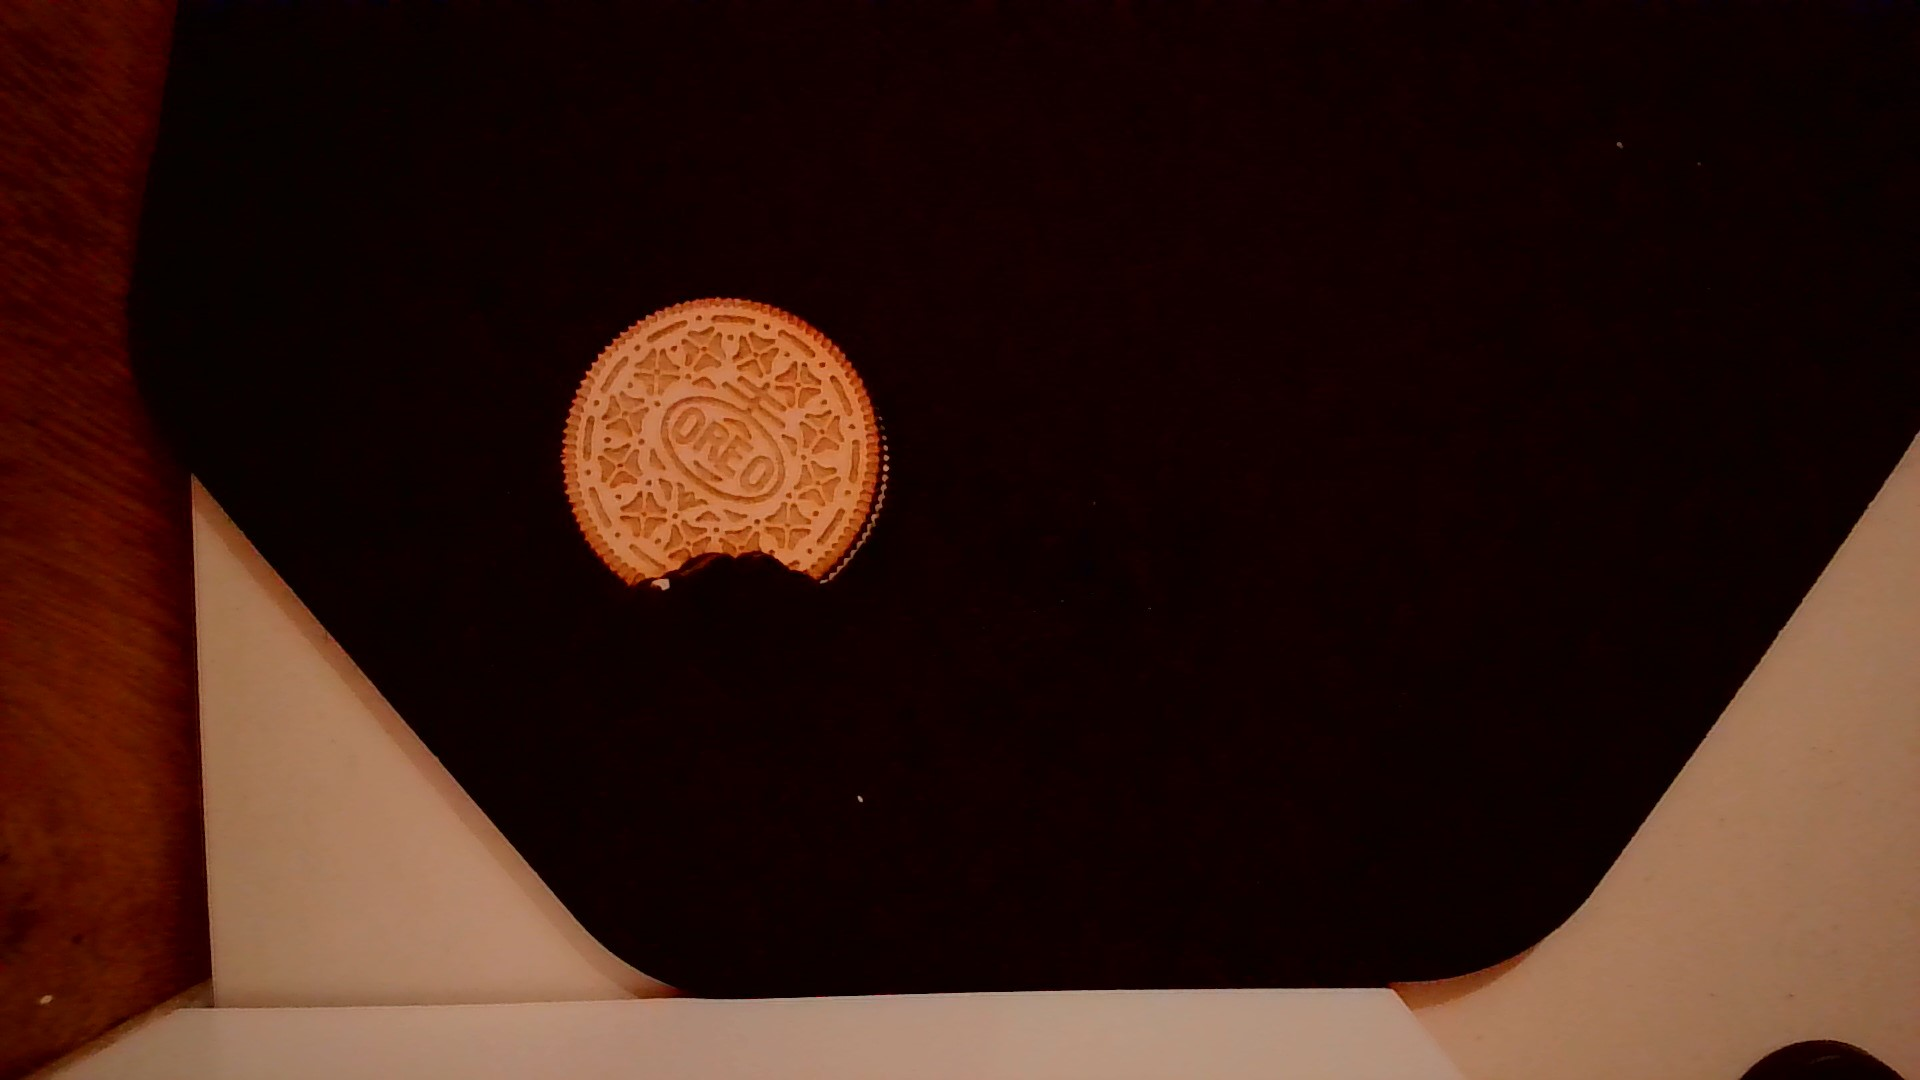Mangé: (611, 531, 841, 620)
Oréo: (551, 291, 895, 595)
